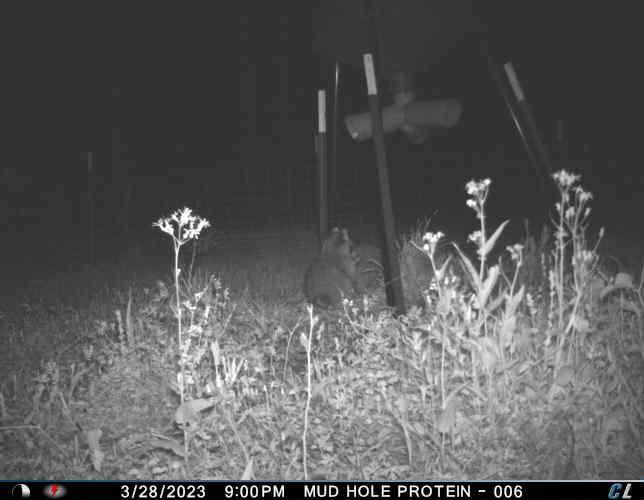Raccoon: (307, 224, 364, 314)
